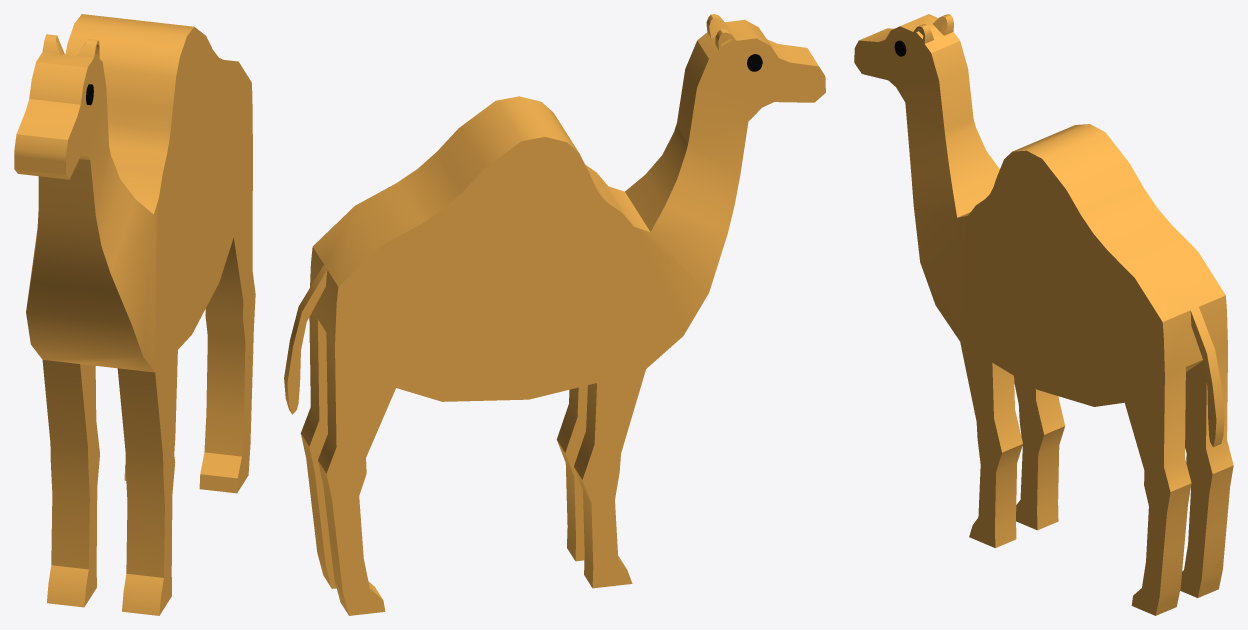
Rendered from camel.gltf.
3 views of the same model, side by side, from view 1: azimuth 30°, elevation 25°; view 2: azimuth 150°, elevation 25°; view 3: azimuth 270°, elevation 25° (orthographic). The views are drawn at different scales.
Parts seen in each view (by area): view 1: Plane.126; view 2: Plane.126; view 3: Plane.126.
Boxes of the visible parts, box(x1,y1,x2,y2) form: Plane.126: box(14, 14, 255, 615); Plane.126: box(284, 14, 825, 615); Plane.126: box(854, 14, 1233, 615).
Size of the model in its own units: 1.53 by 2.11 by 1.53.
Materials: 1 (1 with a texture image).
